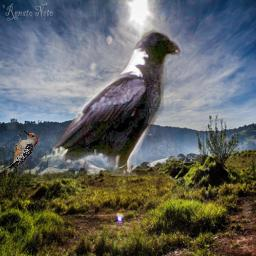Crow: (48, 26, 182, 176)
Woodpecker: (9, 130, 38, 168)
